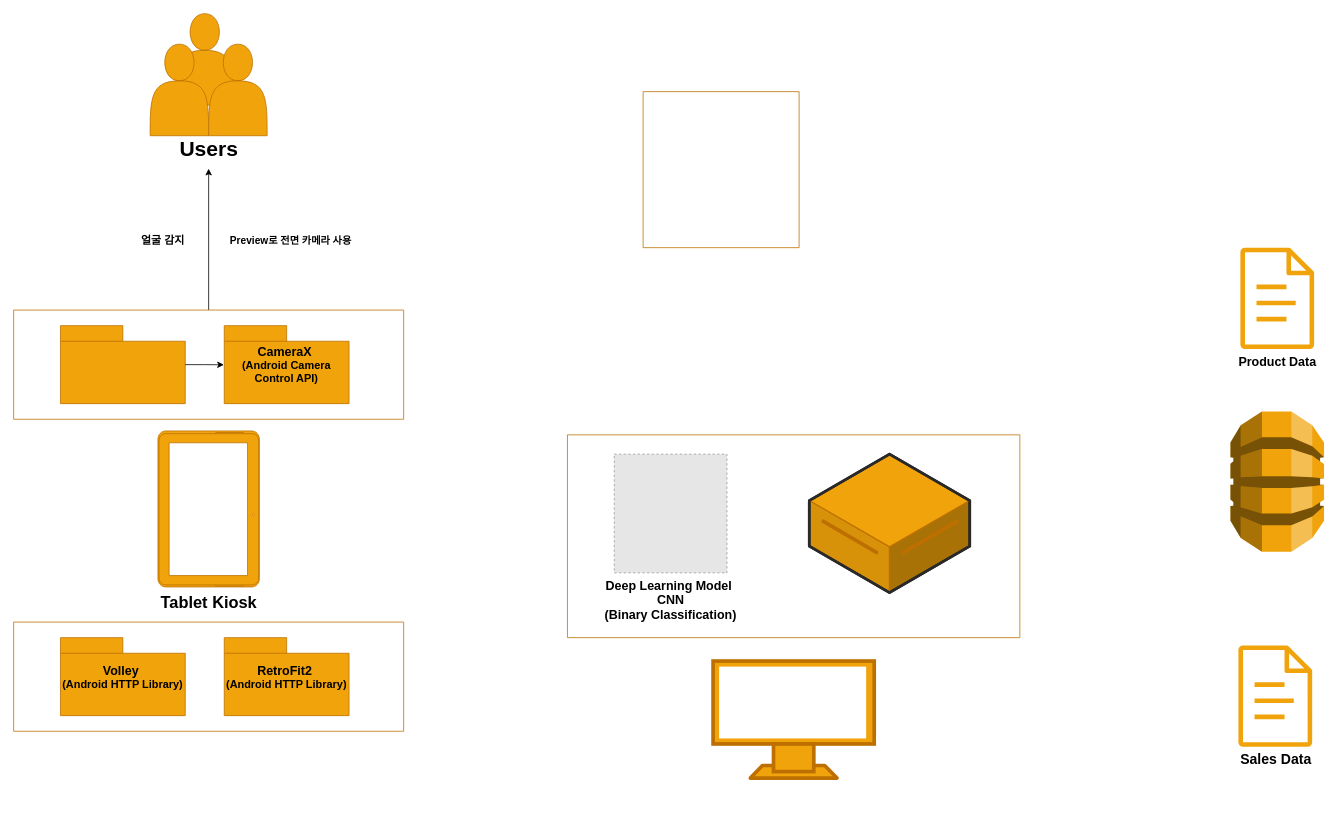
Image size: 1338x817. Some labels were removed from this diagram. Grey dashed boxes stand in for pictures. Here are the shapes that lost their labels. From the top down, the box of each, then its label:
(60, 325, 185, 404): MLKit (Android face Detection API)
(1230, 411, 1324, 552): MySQL
(808, 453, 970, 593): Flask
(712, 660, 875, 778): Web Device
